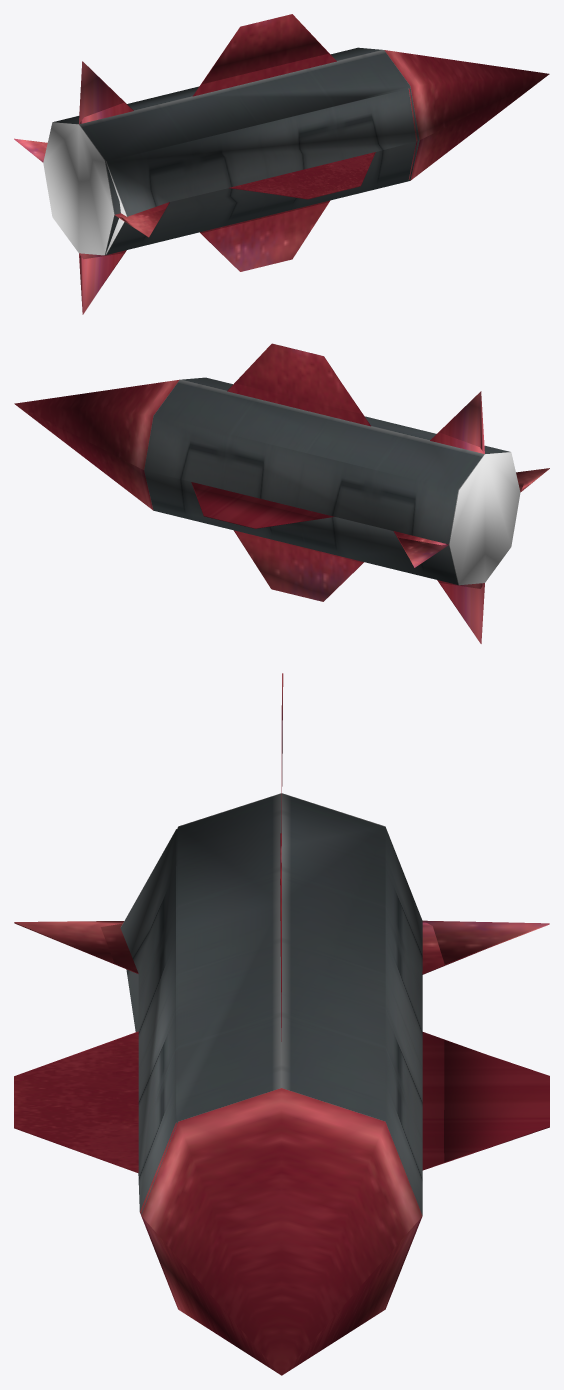
File: Rocket Projectile.fbx
The picture shows the model from 3 angles, top to bottom: view 1: azimuth 30°, elevation 25°; view 2: azimuth 150°, elevation 25°; view 3: azimuth 270°, elevation 25°; orthographic projection. The views are drawn at different scales.
Parts seen in each view (by area): view 1: Cube; view 2: Cube; view 3: Cube.
Boxes of the visible parts, x1=… form: Cube: x1=14, y1=14, x2=549, y2=314; Cube: x1=14, y1=343, x2=549, y2=643; Cube: x1=14, y1=673, x2=549, y2=1375.
Size of the model in its own units: 766 by 394 by 381.
Materials: 2 (1 with a texture image).
